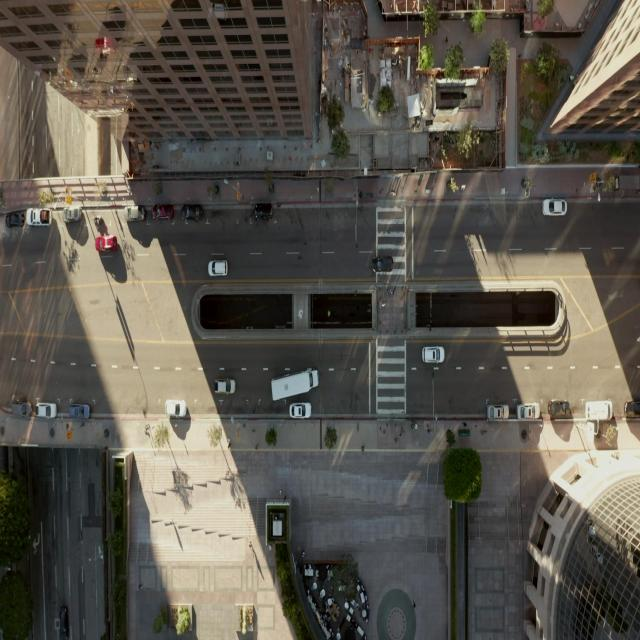Bus: (270, 367, 320, 399)
Car: (542, 198, 568, 217), (516, 401, 540, 421), (26, 209, 54, 226), (422, 346, 446, 365), (370, 255, 394, 272), (151, 203, 175, 220), (207, 259, 228, 278), (289, 402, 312, 419), (486, 403, 509, 420), (95, 236, 118, 253), (213, 378, 237, 394), (548, 399, 570, 416), (35, 403, 57, 420), (123, 205, 146, 221), (253, 202, 273, 220), (165, 401, 187, 417), (58, 606, 68, 640), (62, 206, 83, 222), (11, 402, 33, 417), (181, 206, 204, 220), (623, 400, 640, 418), (6, 211, 24, 228), (69, 405, 90, 419)
Van: (586, 401, 612, 418)
